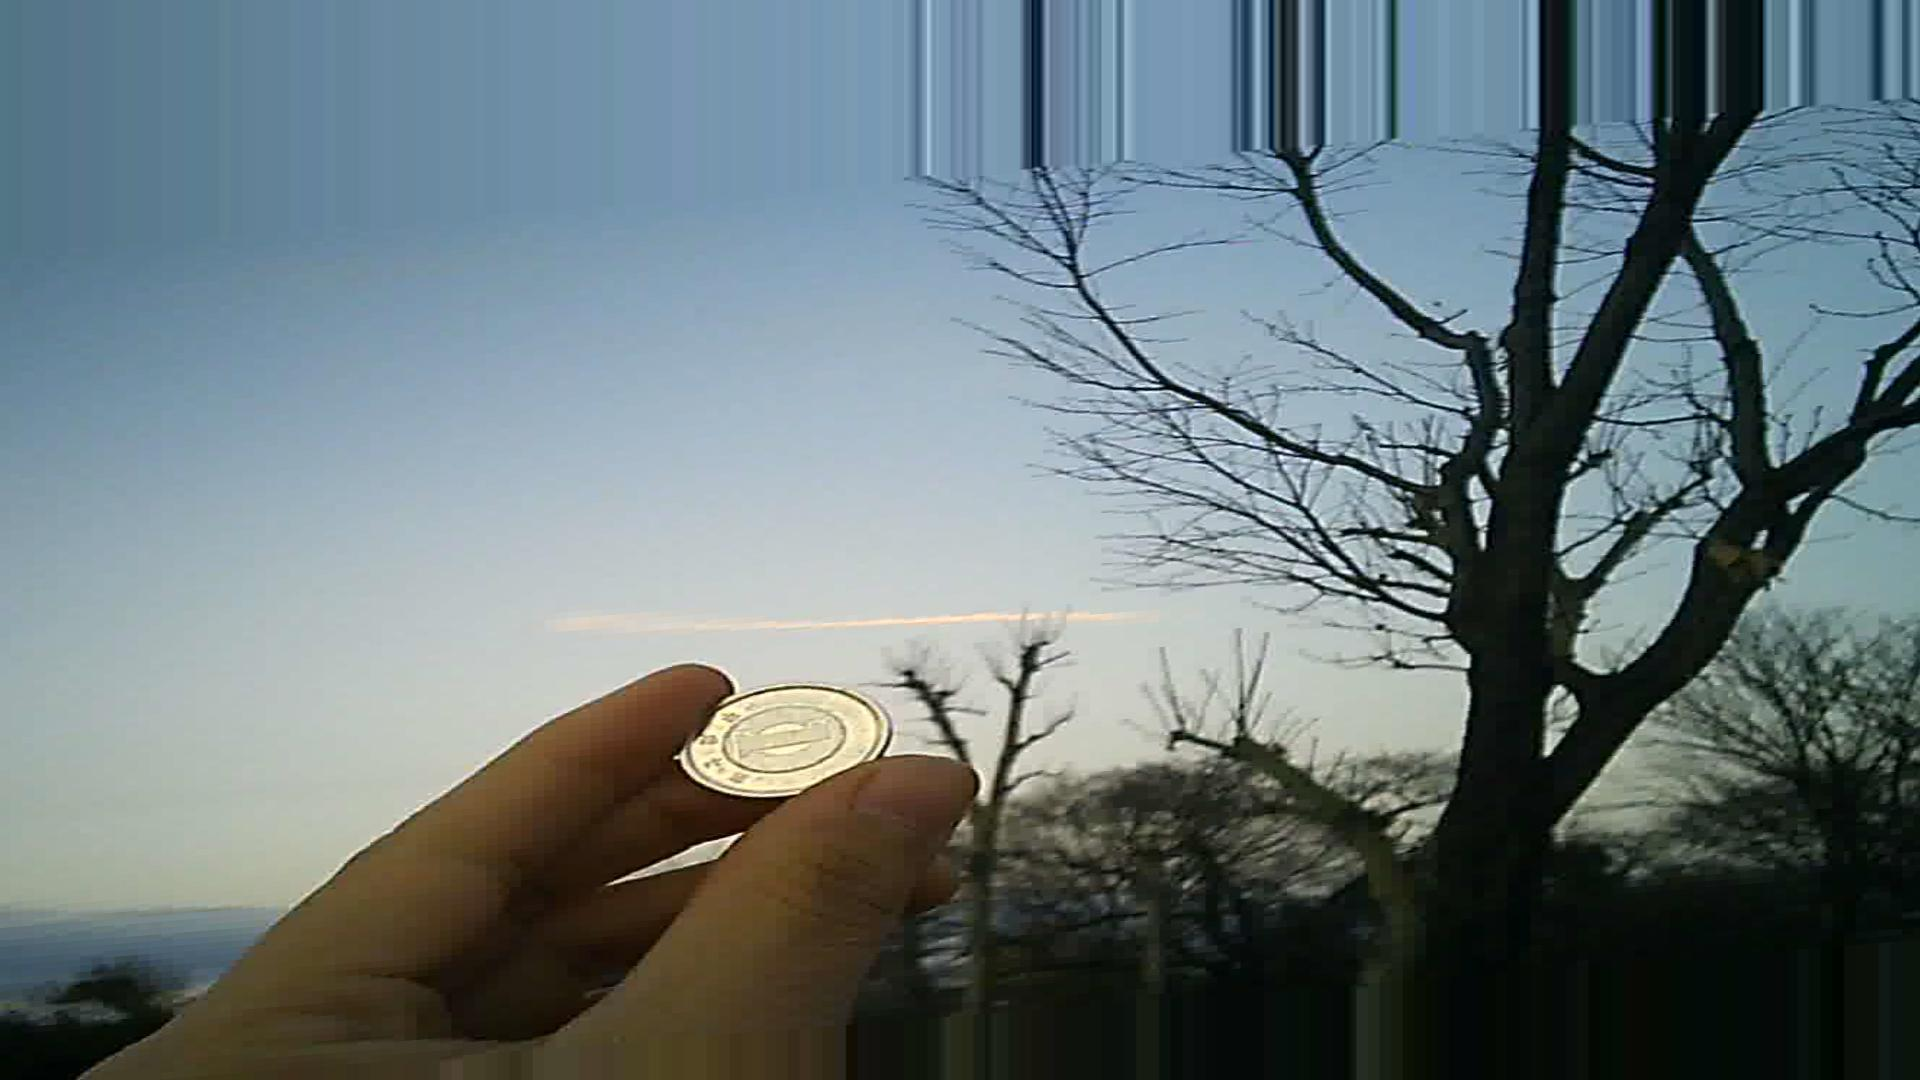1 Yen: (675, 659, 891, 806)
